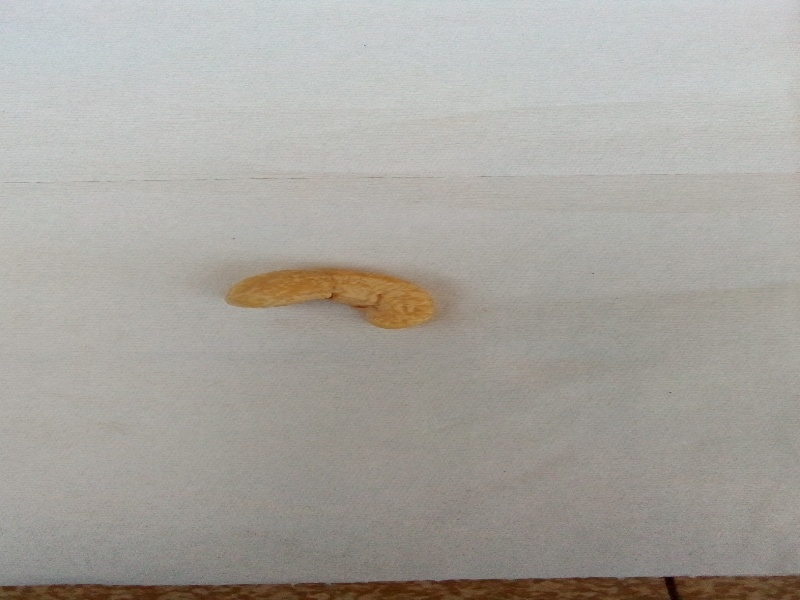cashew: (217, 230, 483, 368)
